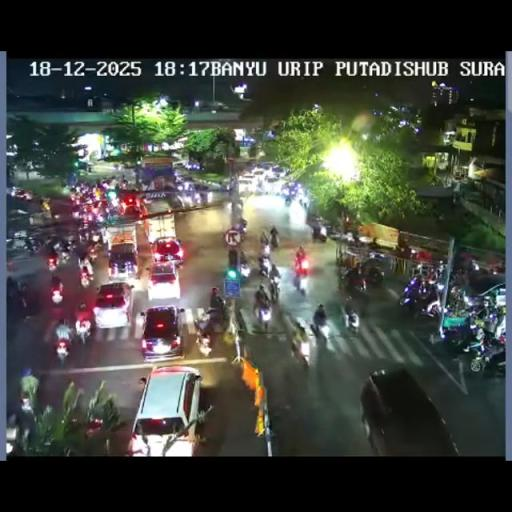Car: (359, 367, 459, 454), (127, 363, 203, 454), (138, 304, 185, 360), (6, 242, 48, 288), (93, 282, 134, 328), (146, 262, 184, 302), (106, 242, 140, 281), (150, 236, 186, 266), (118, 191, 144, 218), (9, 186, 34, 202), (263, 173, 282, 193), (176, 175, 196, 194), (237, 174, 254, 194)
Motorcycle: (42, 252, 98, 362), (251, 225, 310, 328), (14, 370, 39, 450), (398, 275, 442, 318), (466, 335, 505, 373), (437, 310, 476, 348), (288, 327, 310, 368), (201, 300, 227, 334), (446, 285, 472, 315), (481, 305, 503, 335), (344, 267, 366, 294), (5, 414, 20, 452), (74, 314, 92, 343), (54, 334, 70, 366), (450, 266, 472, 288), (78, 256, 94, 286), (363, 265, 384, 287), (255, 302, 271, 330), (343, 307, 360, 333), (17, 281, 30, 313), (292, 268, 307, 295), (314, 315, 330, 340), (84, 416, 102, 438), (197, 331, 212, 357), (50, 274, 64, 300), (85, 240, 100, 262), (80, 208, 97, 227), (258, 255, 272, 278), (60, 238, 76, 256), (269, 276, 280, 302), (24, 236, 39, 255), (47, 246, 59, 269), (398, 243, 414, 260), (104, 202, 119, 220), (294, 246, 306, 268), (328, 228, 346, 242), (231, 194, 243, 214), (228, 246, 238, 270), (78, 227, 92, 244), (425, 266, 438, 284), (238, 260, 250, 279), (182, 190, 194, 206), (270, 262, 280, 280), (228, 176, 238, 194), (260, 241, 271, 257), (41, 198, 52, 214), (344, 230, 355, 244), (469, 258, 480, 272), (298, 194, 308, 209), (193, 190, 203, 205), (317, 228, 327, 242), (255, 180, 265, 194), (90, 230, 100, 244), (270, 234, 278, 250), (238, 222, 247, 236), (71, 206, 80, 220), (452, 190, 461, 204), (284, 193, 293, 206), (112, 162, 120, 172)
